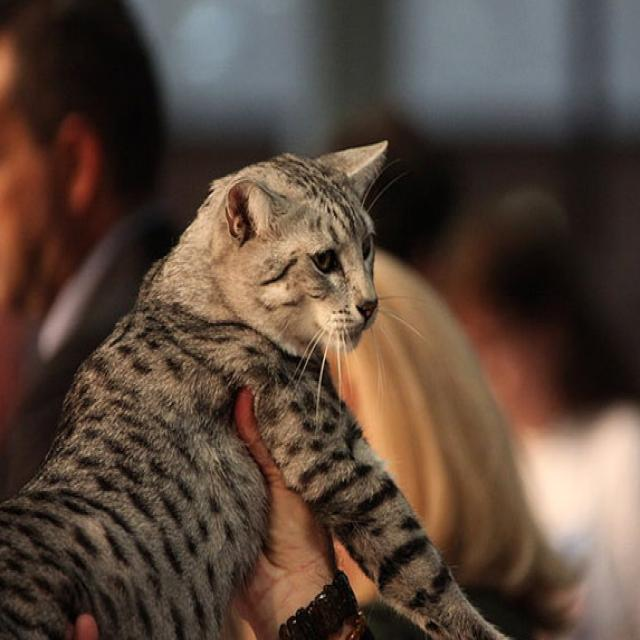Egyptian Mau: (0, 123, 566, 640)
